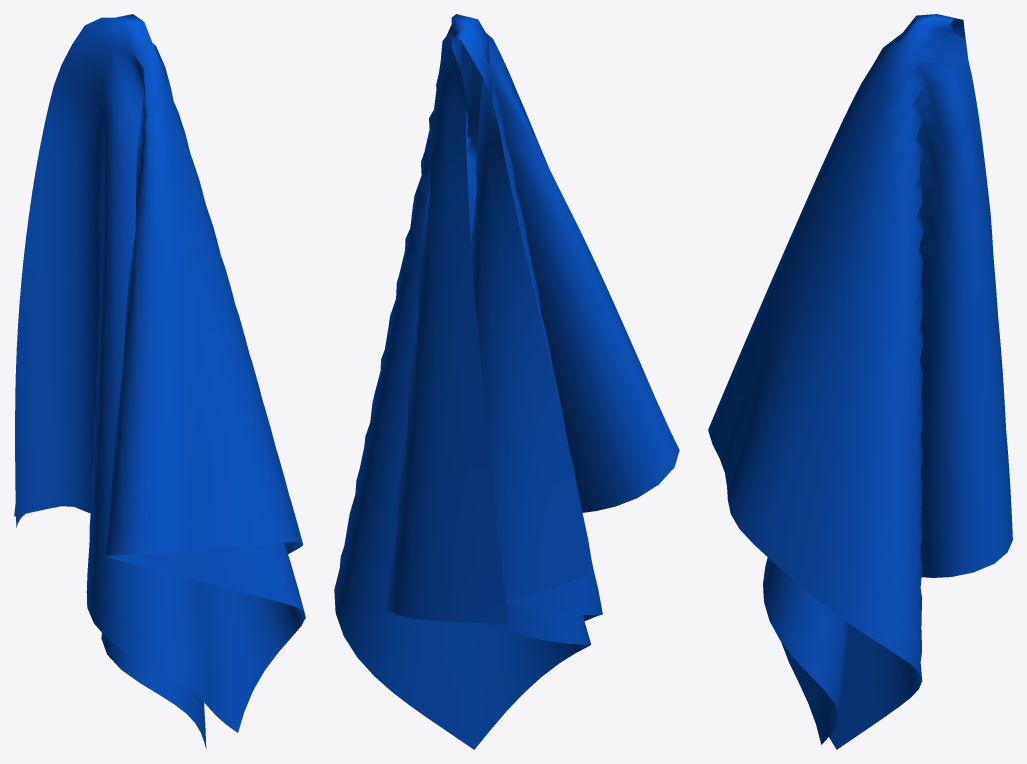
File: tuch.fbx
The picture shows the model from 3 angles, left to right: view 1: azimuth 30°, elevation 25°; view 2: azimuth 150°, elevation 25°; view 3: azimuth 270°, elevation 25°; orthographic projection. The views are drawn at different scales.
Visible parts, largest first — view 1: Plane; view 2: Plane; view 3: Plane.
Part boxes in pixels (x1,y1,x2,y2): Plane: [14, 14, 305, 748]; Plane: [334, 14, 679, 749]; Plane: [708, 14, 1012, 749].
Bounding box in the file's own units: 35.23 × 94.65 × 36.52.
